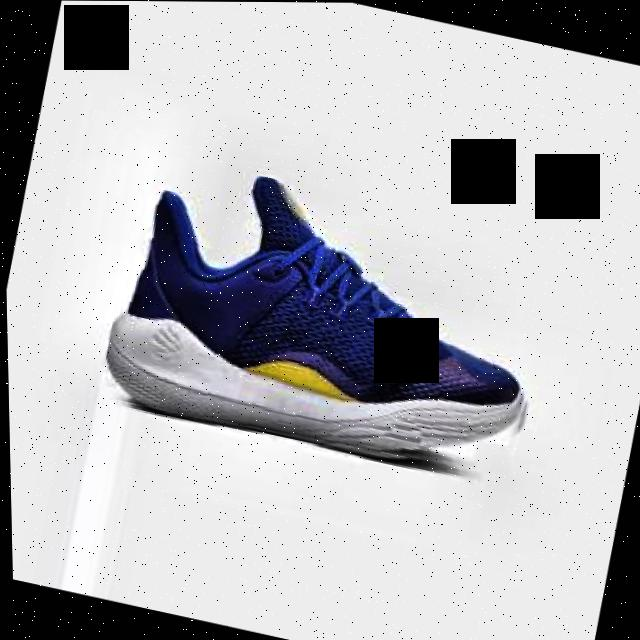shoe: (92, 150, 563, 487)
